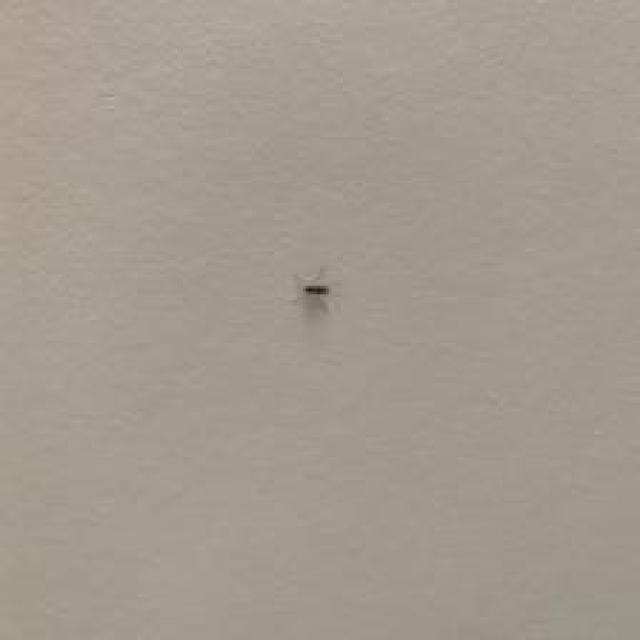Culex: (299, 266, 330, 297)
